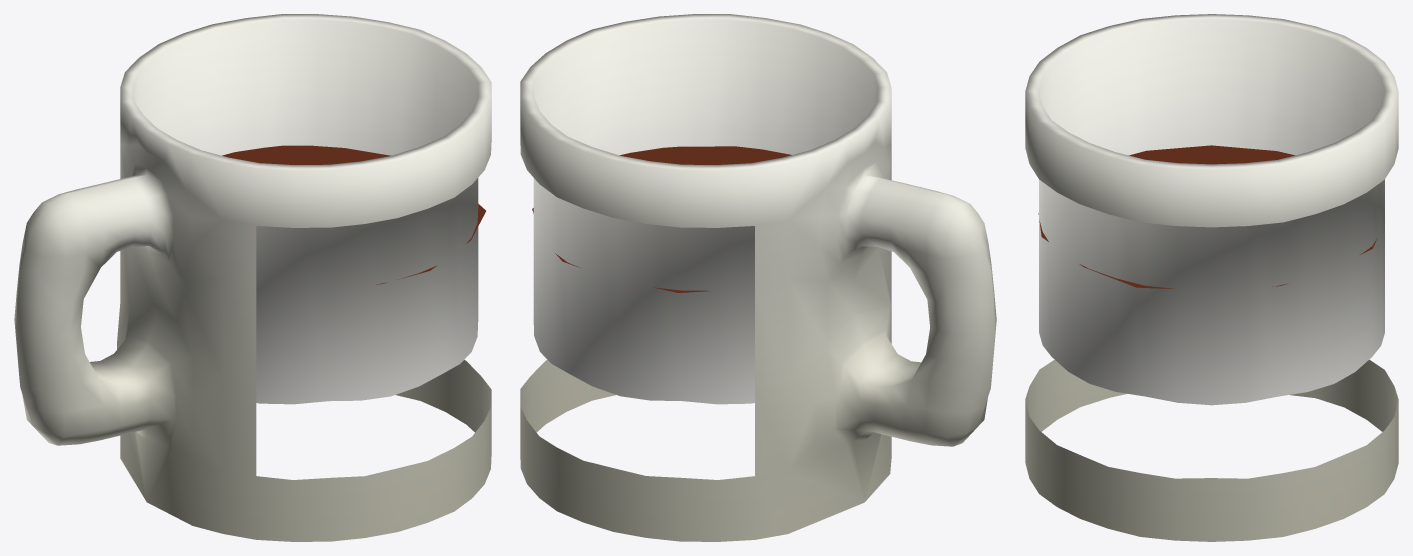
Rendered from mesh_mug_001.fbx.
3 views of the same model, side by side, from view 1: azimuth 30°, elevation 25°; view 2: azimuth 150°, elevation 25°; view 3: azimuth 270°, elevation 25° (orthographic).
Visible parts, largest first — view 1: mug, coffee; view 2: mug, coffee; view 3: mug, coffee.
Boxes of the visible parts, bbox=[...] form: mug: bbox=[14, 14, 491, 541]; coffee: bbox=[222, 145, 485, 284]; mug: bbox=[520, 14, 996, 541]; coffee: bbox=[532, 146, 791, 292]; mug: bbox=[1025, 14, 1398, 541]; coffee: bbox=[1038, 145, 1377, 288].
Bounding box in the file's own units: 28.68 × 22.64 × 20.59.
